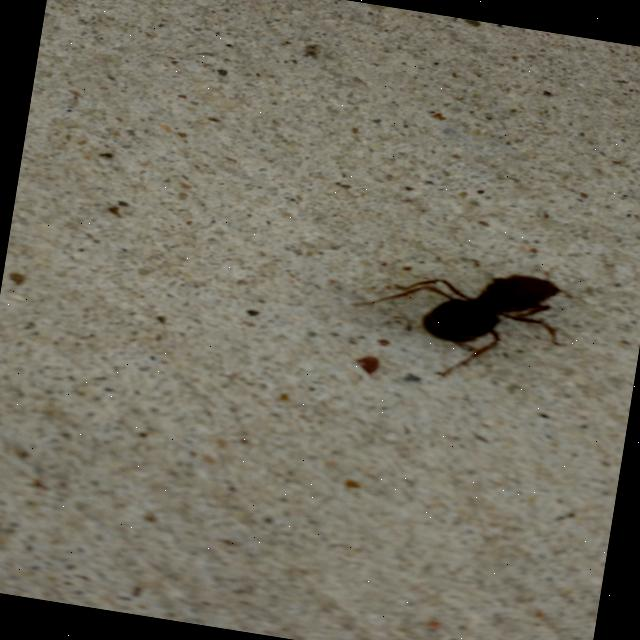Alive-Female-Dealate: (342, 242, 577, 396)
